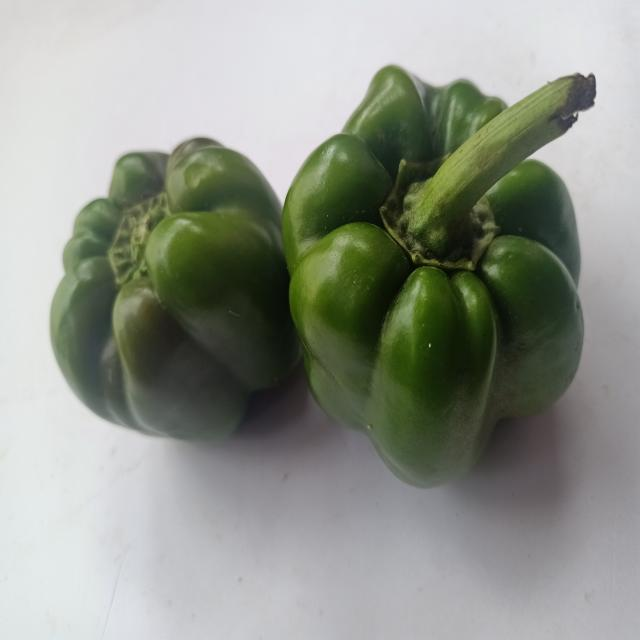Capsicum: (277, 52, 615, 513), (39, 119, 295, 457)
